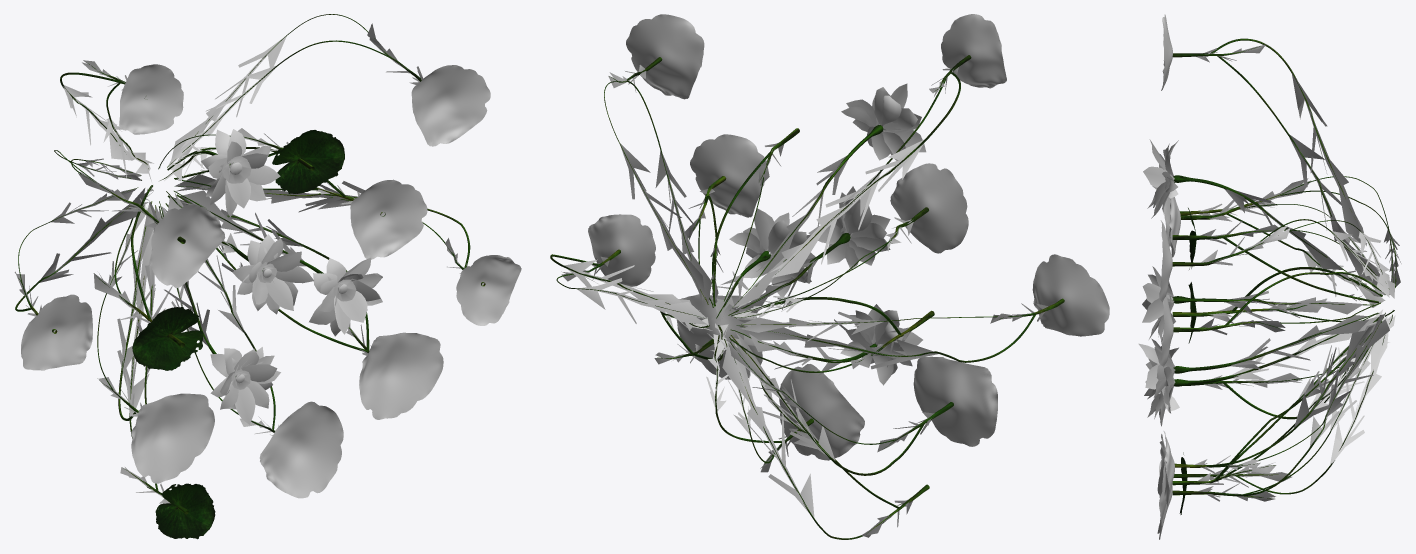
File: LotusFlower_Med.fbx
3 renders of one model, left to right at view 1: azimuth 30°, elevation 25°; view 2: azimuth 150°, elevation 25°; view 3: azimuth 270°, elevation 25°, orthographic. The views are drawn at different scales.
Parts seen in each view (by area): view 1: LOD0; view 2: LOD0; view 3: LOD0.
Boxes of the visible parts, bbox=[...] form: LOD0: bbox=[14, 14, 521, 539]; LOD0: bbox=[550, 14, 1109, 539]; LOD0: bbox=[1138, 14, 1401, 539].
Size of the model in its own units: 4.1 by 3.86 by 1.97.
